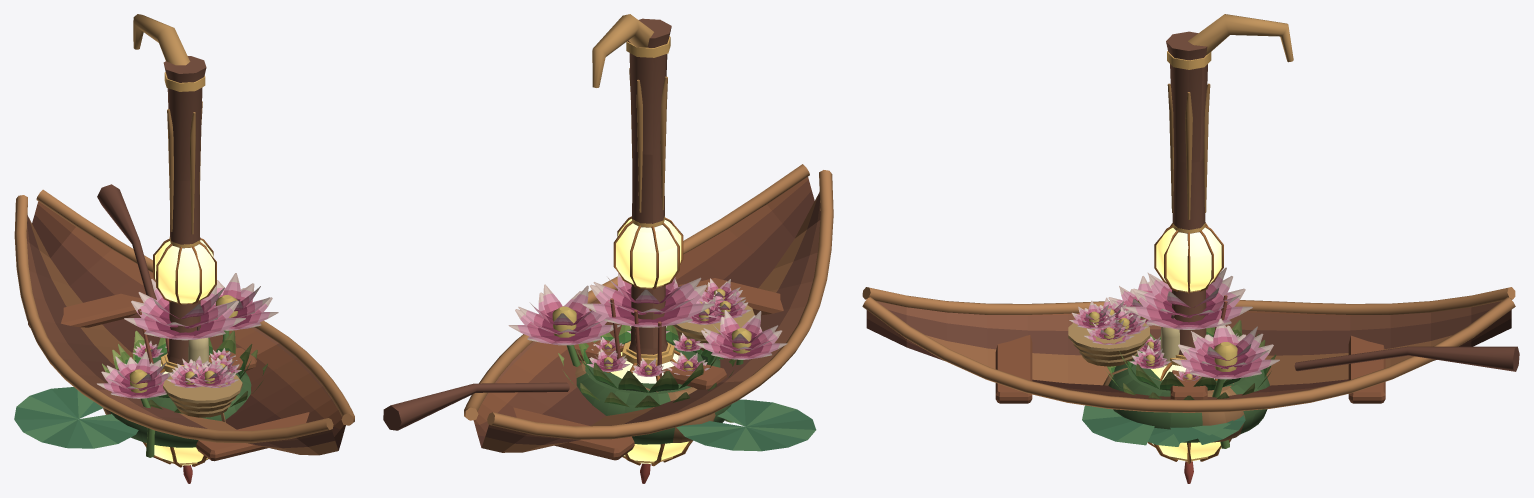
File: offerings.glb
3 views of the same model, side by side, from view 1: azimuth 30°, elevation 25°; view 2: azimuth 150°, elevation 25°; view 3: azimuth 270°, elevation 25° (orthographic). The views are drawn at different scales.
Visible parts, largest first — view 1: Longboat, Lotus, CeremonyPost, BananaKrathong, LampPost, PaperLantern, LotusCrown; view 2: Longboat, Lotus, CeremonyPost, BananaKrathong, LampPost, PaperLantern, LotusCrown, HeartKrathong; view 3: Longboat, Lotus, CeremonyPost, BananaKrathong, LampPost, PaperLantern, LotusCrown, HeartKrathong.
Boxes of the visible parts, x1,y1,x2,y2 form: Longboat: [14, 184, 354, 461]; Lotus: [14, 273, 278, 457]; CeremonyPost: [133, 14, 206, 367]; BananaKrathong: [102, 309, 267, 447]; LampPost: [153, 237, 216, 305]; PaperLantern: [143, 353, 211, 483]; LotusCrown: [132, 341, 241, 375]; Longboat: [383, 164, 833, 460]; Lotus: [508, 273, 816, 451]; CeremonyPost: [592, 14, 671, 358]; BananaKrathong: [558, 298, 735, 444]; LampPost: [613, 216, 683, 289]; PaperLantern: [606, 342, 692, 483]; LotusCrown: [587, 326, 709, 376]; HeartKrathong: [575, 361, 715, 442]; Longboat: [862, 287, 1519, 412]; Lotus: [1082, 267, 1279, 448]; CeremonyPost: [1166, 14, 1293, 359]; BananaKrathong: [1106, 295, 1276, 442]; LampPost: [1154, 223, 1223, 293]; PaperLantern: [1147, 357, 1231, 483]; LotusCrown: [1129, 333, 1238, 381]; HeartKrathong: [1103, 368, 1245, 442].
Size of the model in its own units: 2.04 by 3.35 by 4.28.
